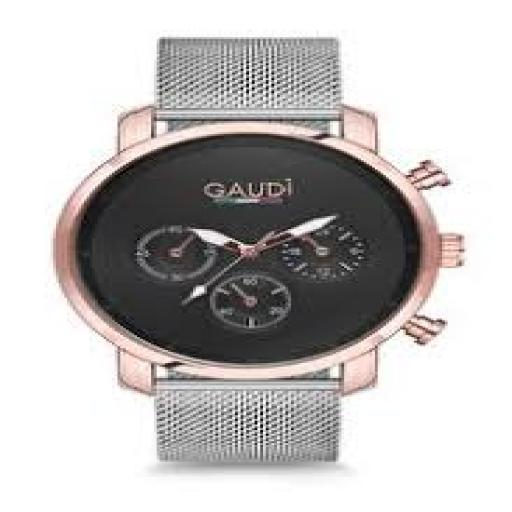KolSaati: (64, 22, 474, 492)
